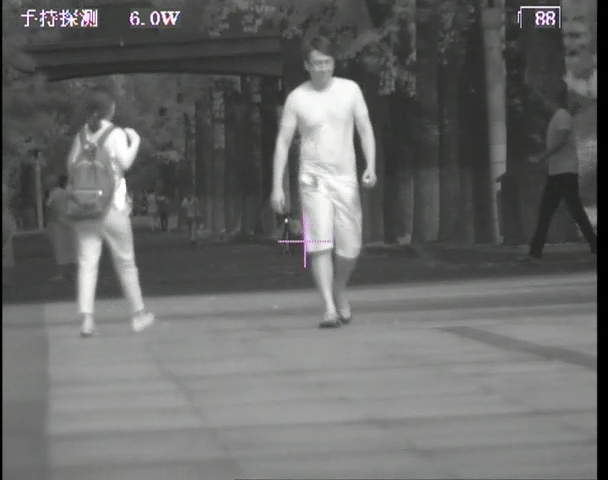my: (282, 216, 290, 225)
